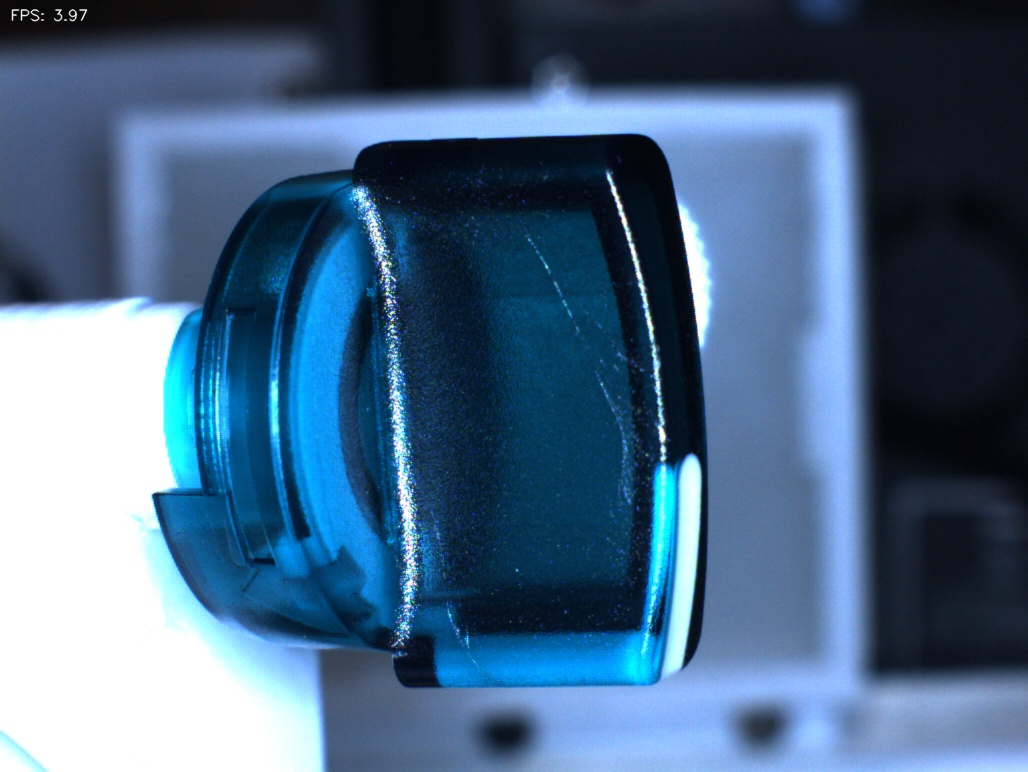Givrage: (522, 231, 655, 500)
